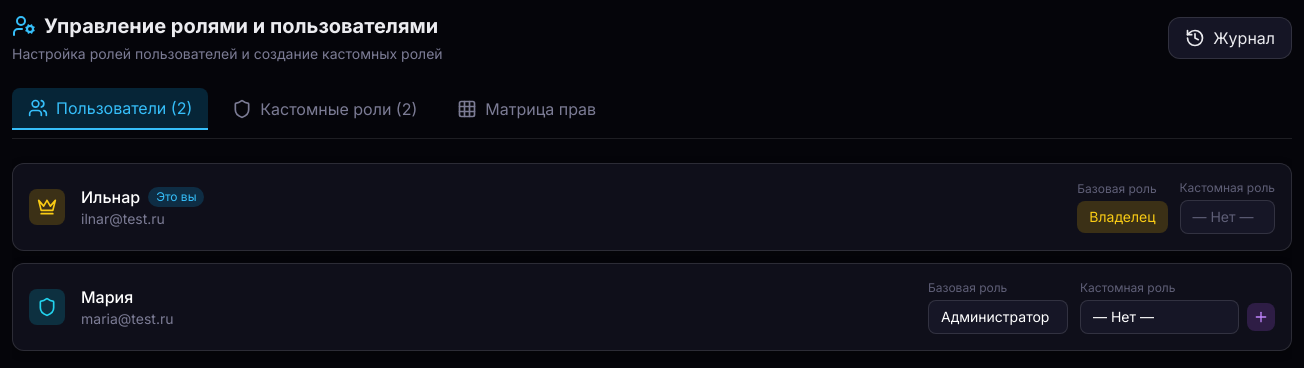
Test case: RoleManagement › вкладка «Пользователи» (по умолчанию) › кнопка «Новая роль» есть только на вкладке ролей
Expected: the heading "Мария" is shown, [81,285,133,309]
Expected: the button "Новая роль" is not shown
Click the button "Кастомные роли (2)" at (325, 109), box [216,88,433,130]
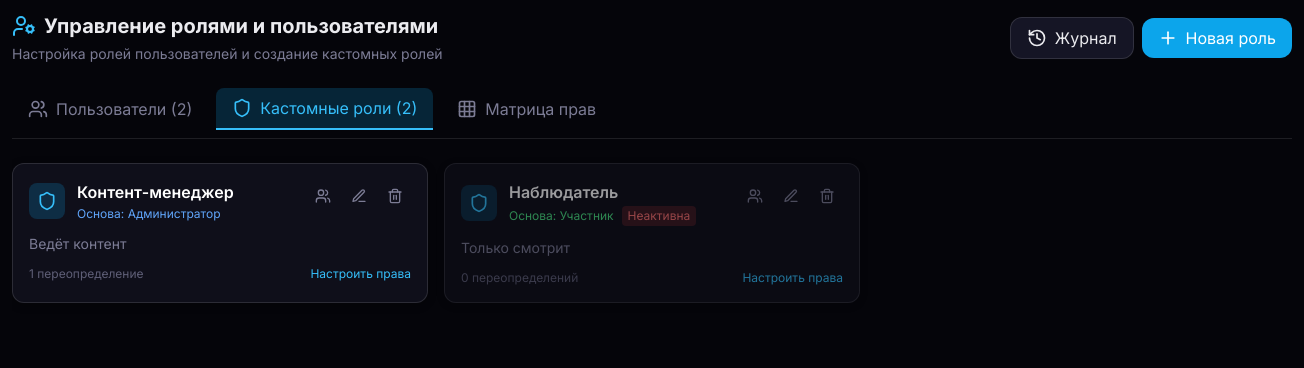
Result: the button "Новая роль" is shown at [1142,18,1292,58]
